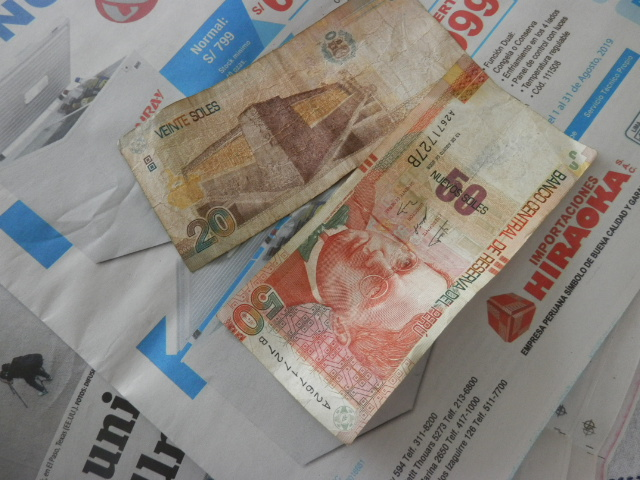B20: (123, 9, 416, 259)
B50: (245, 152, 562, 435)
